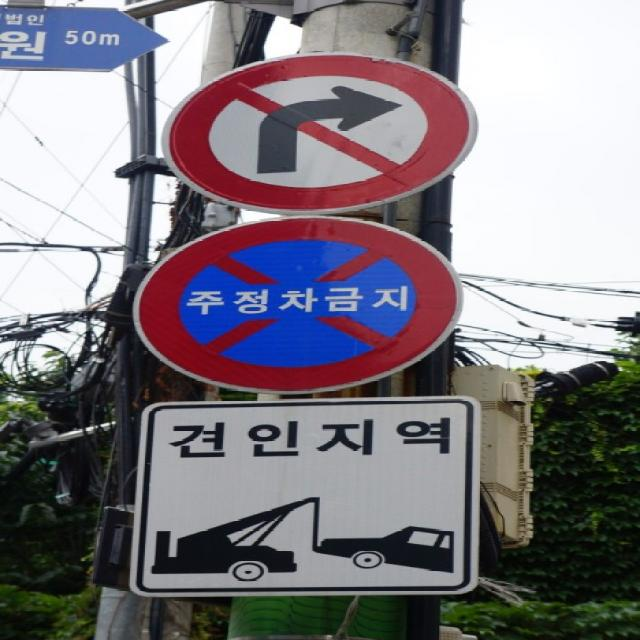regulatory_No_right_turn: (138, 46, 510, 213)
regulatory_No_stop_or_parking: (130, 213, 488, 393)
